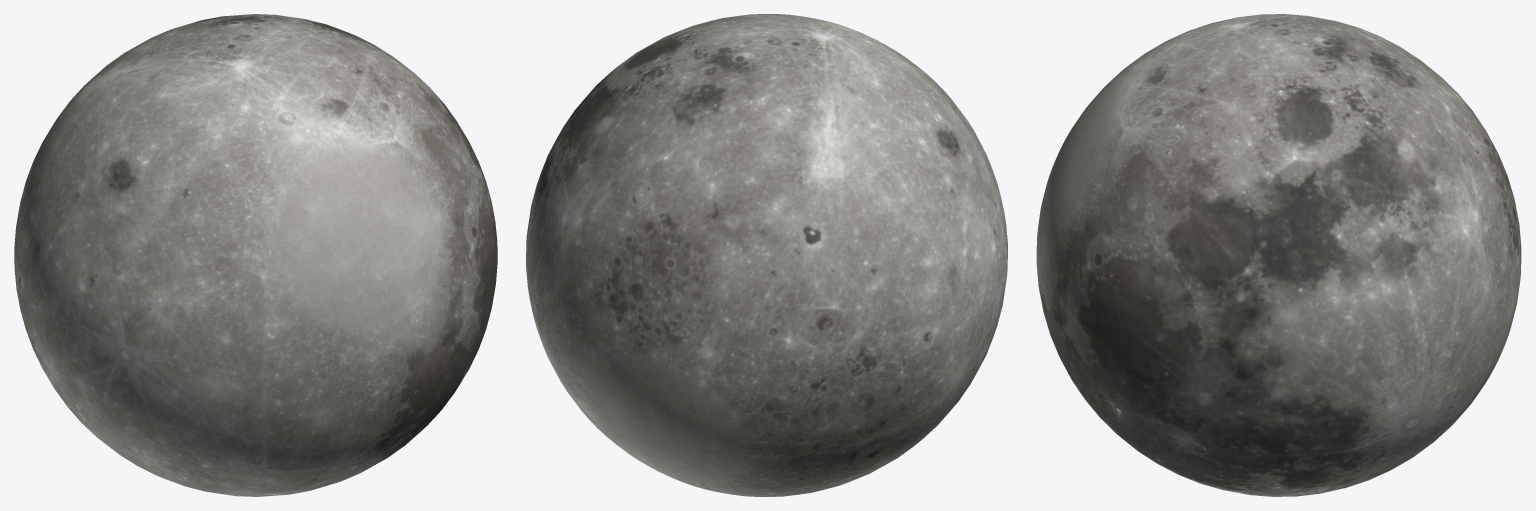
Rendered from moon.fbx.
The picture shows the model from 3 angles, left to right: view 1: azimuth 30°, elevation 25°; view 2: azimuth 150°, elevation 25°; view 3: azimuth 270°, elevation 25°; orthographic projection.
Visible parts, largest first — view 1: Sphere; view 2: Sphere; view 3: Sphere.
Part boxes in pixels (x1,y1,x2,y2): Sphere: (14,14,497,496); Sphere: (526,14,1007,496); Sphere: (1036,14,1521,496).
Size of the model in its own units: 9872 by 9883 by 9920.
